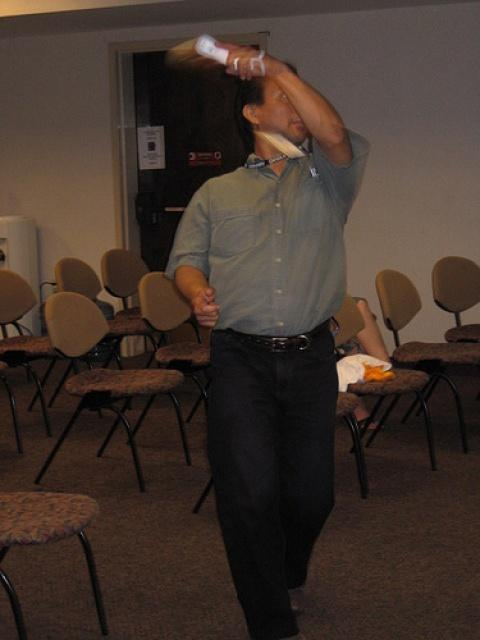Kursi: (33, 290, 191, 492), (362, 268, 479, 452), (329, 290, 435, 472), (136, 270, 210, 372), (430, 254, 479, 342)
